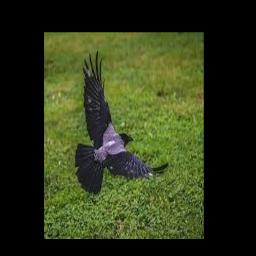Crow: (75, 52, 169, 195)
